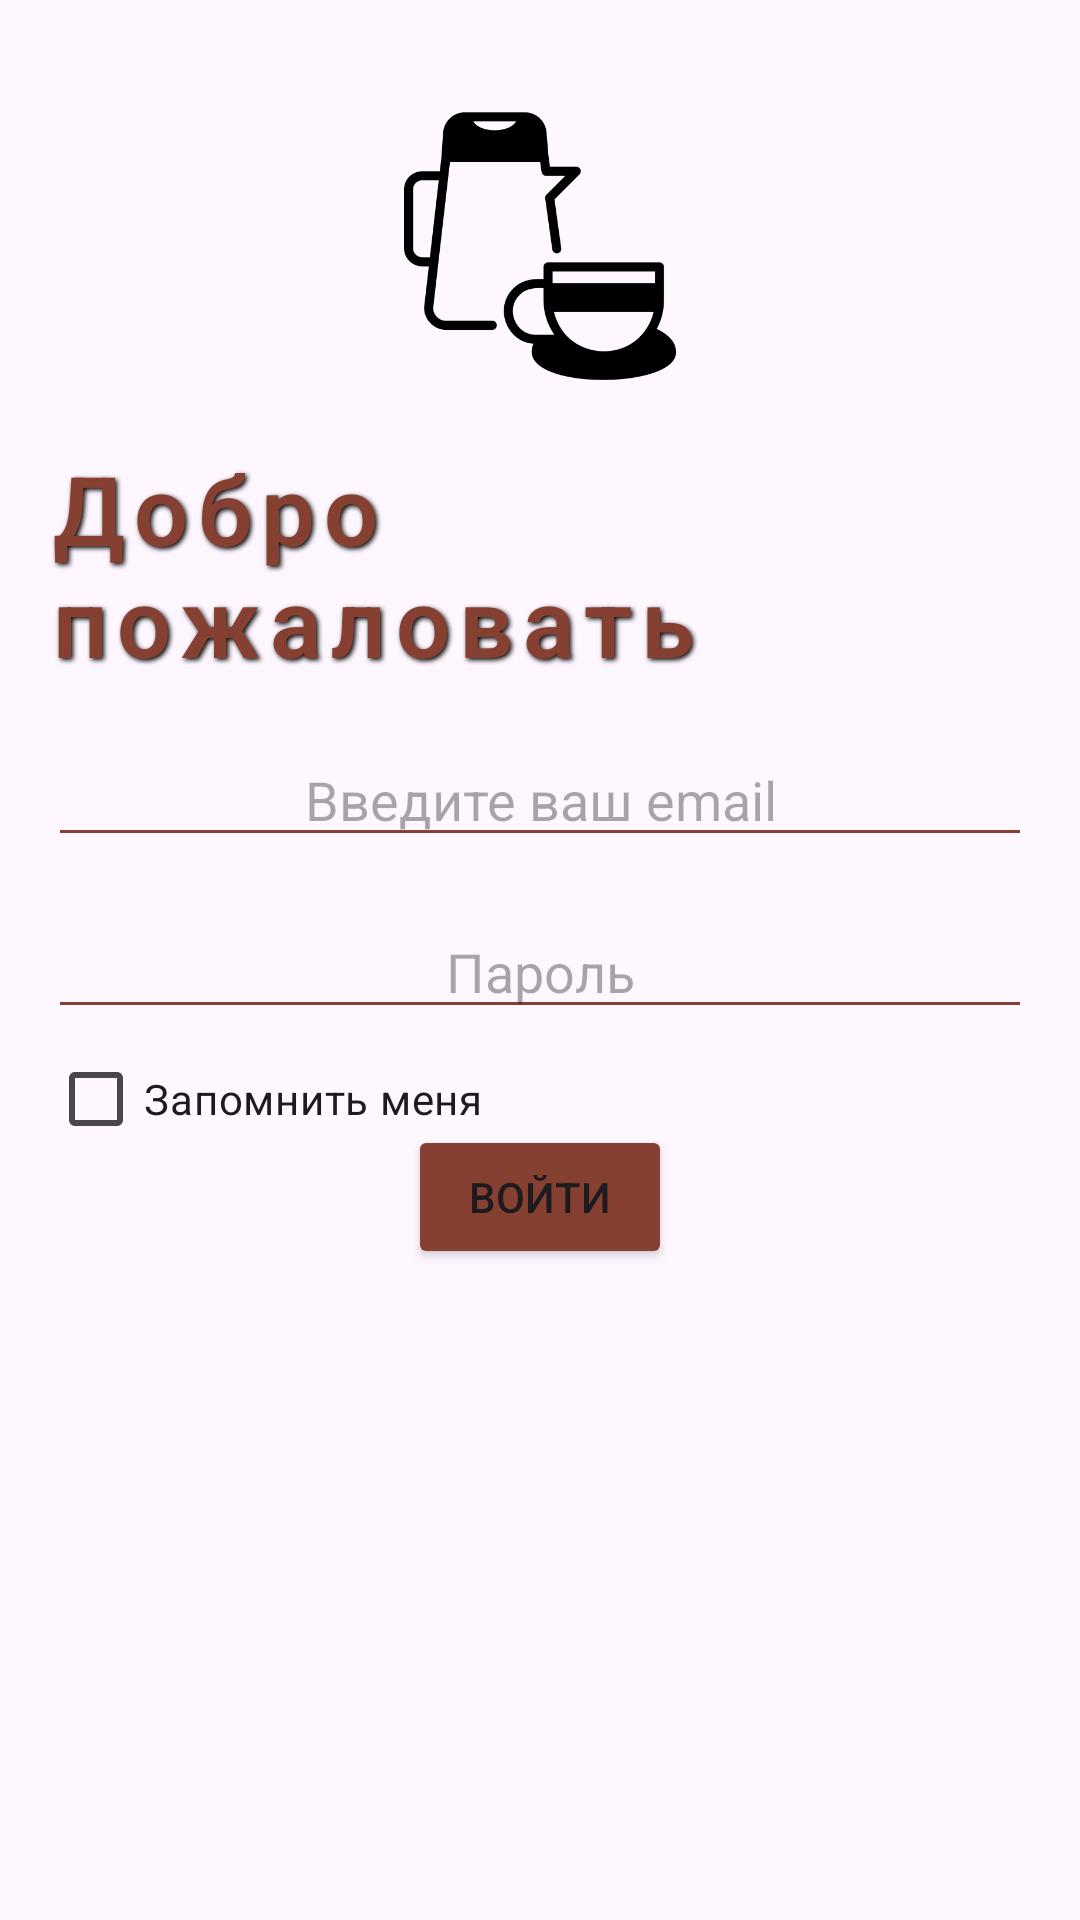

Icon bounding boxes for this 1080 x 1920 phone screenshot, format (x1, y1, x2, y2):
drink: (404, 112, 676, 380)
